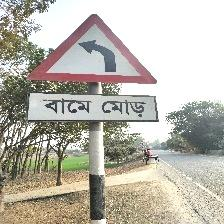Left-Turn: (24, 13, 160, 123)
